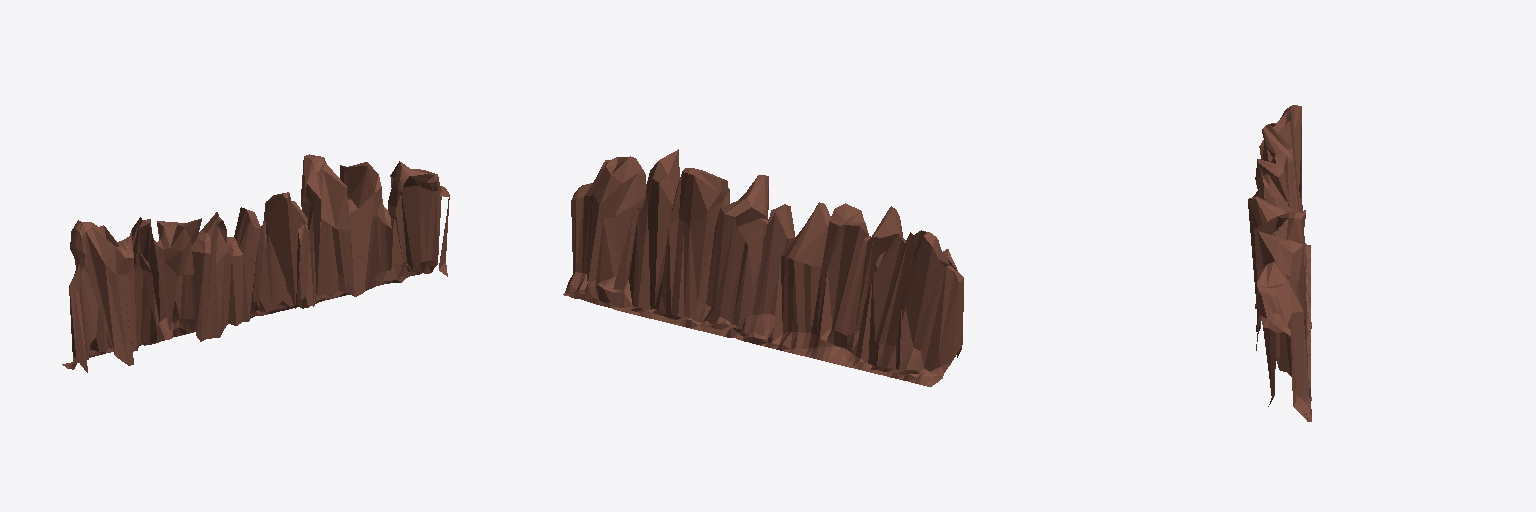
Rendered from border-back.obj.
The picture shows the model from 3 angles: view 1: azimuth 30°, elevation 25°; view 2: azimuth 150°, elevation 25°; view 3: azimuth 270°, elevation 25°; orthographic projection.
Visible parts, largest first — view 1: Plane.6; view 2: Plane.6; view 3: Plane.6.
Part boxes in pixels (x1,y1,x2,y2): Plane.6: (62,154,449,372); Plane.6: (563,149,963,386); Plane.6: (1248,105,1311,421).
Size of the model in its own units: 104 by 39.86 by 15.28.